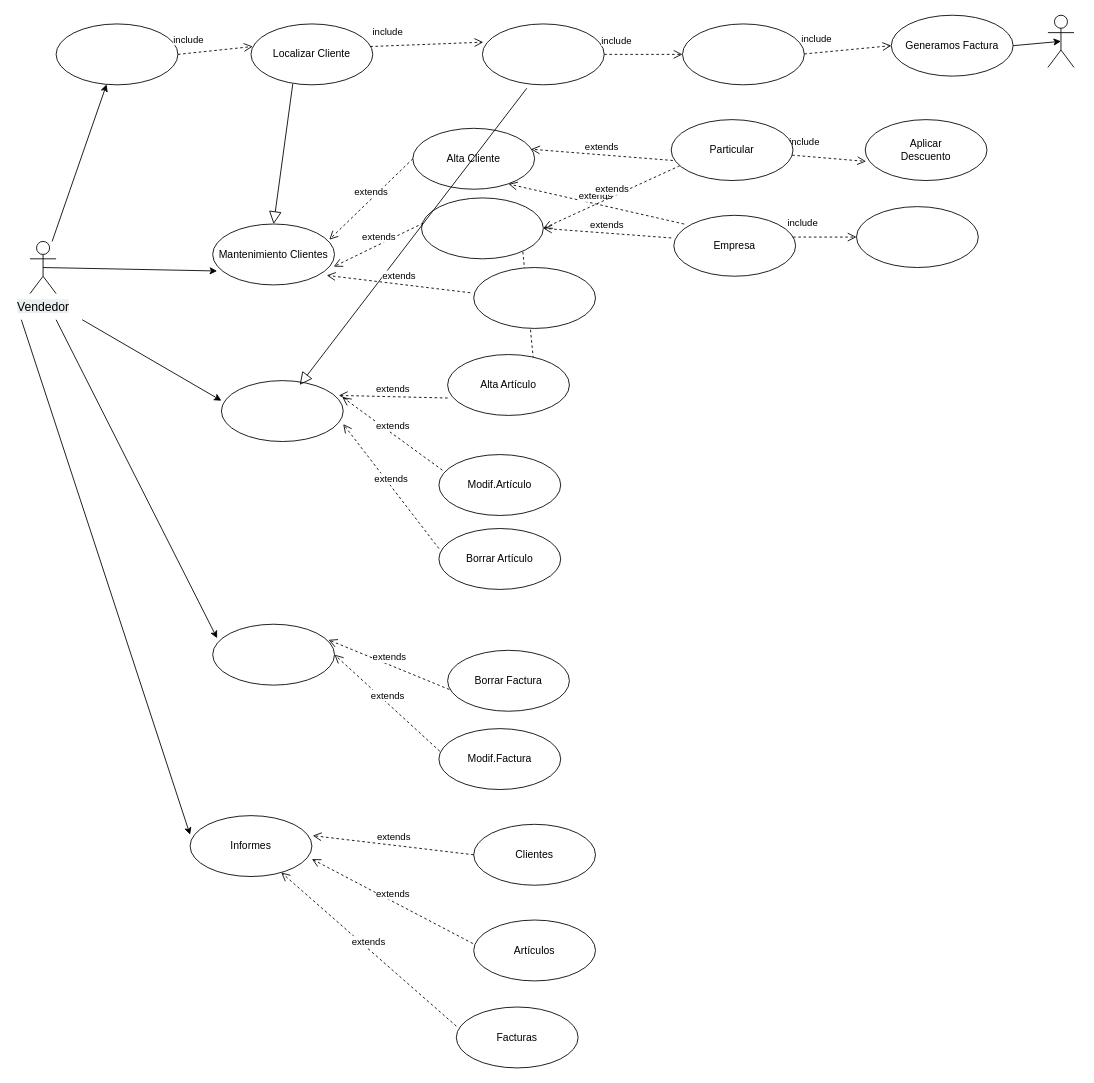
Some shapes in this 1094 by 1083 pixel diagram are drawn without their labels. The shapes that lost their labels are listed below. From the top down, each one's centre as x and y in pixels, then its label:
At point 116,54: "Venta Artículos".
At point 543,54: "Localizar Art iculos".
At point 743,54: "Lineas Fact.".
At point 1060,40: "Cliente".
At point 482,228: "Modif.Cliente".
At point 917,237: "CIF * RAZON SOCIAL".
At point 534,297: "Baja Cliente".
At point 282,411: "Mantenimiento Artículos".
At point 273,654: "Mantenimiento Facturas".
